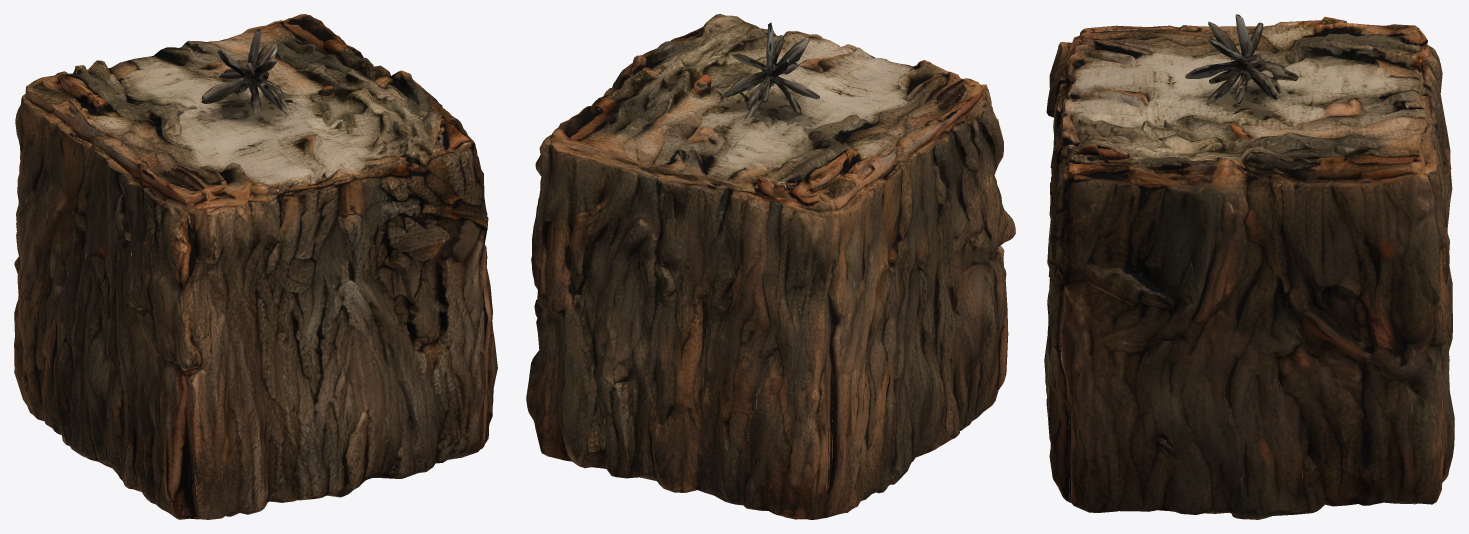
3 views of the same model, side by side, from view 1: azimuth 30°, elevation 25°; view 2: azimuth 150°, elevation 25°; view 3: azimuth 270°, elevation 25° (orthographic). The views are drawn at different scales.
Visible parts, largest first — view 1: textured_mesh; view 2: textured_mesh; view 3: textured_mesh.
Part boxes in pixels (bbox=[...]): textured_mesh: bbox=[14, 14, 497, 519]; textured_mesh: bbox=[526, 14, 1015, 519]; textured_mesh: bbox=[1044, 14, 1454, 519].
Size of the model in its own units: 1.68 by 1.98 by 1.71.
1 material, 1 textured.
